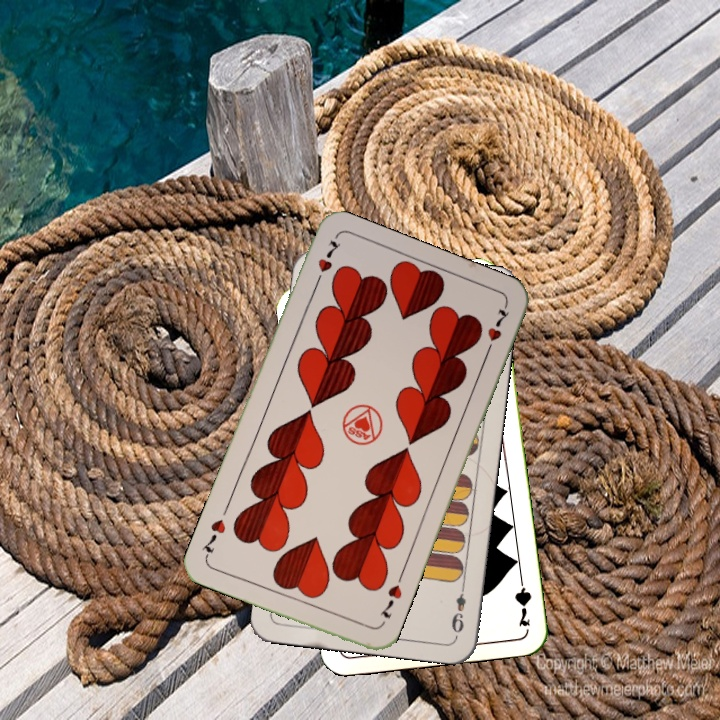E9: (447, 579, 469, 635)
G7: (510, 570, 534, 629)
H7: (310, 236, 344, 290), (375, 581, 405, 621)
